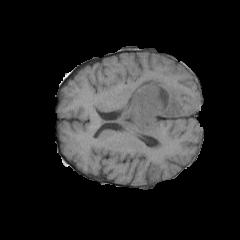glioma: (117, 76, 184, 148)
